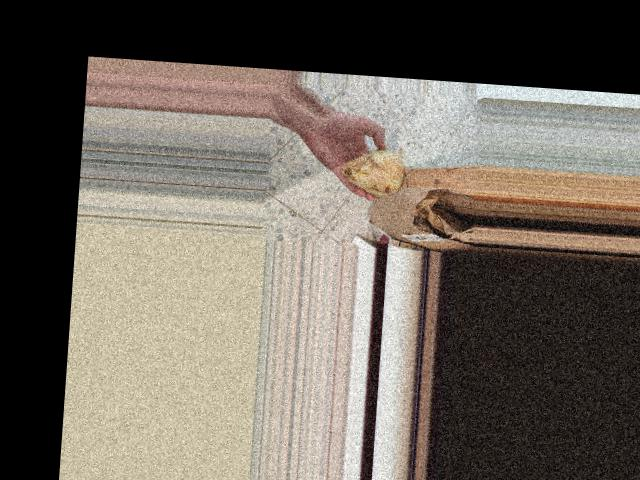onion: (336, 144, 409, 200)
